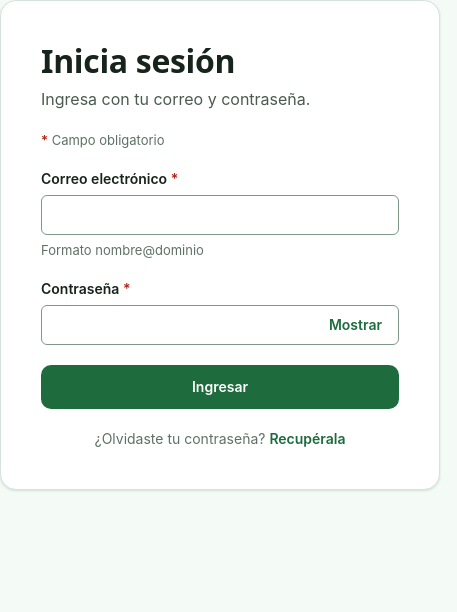
Test: LoginForm › da el mismo mensaje genérico si la cuenta está deshabilitada
Type "diana.rincon@anuc.test" into the field labelled "Correo electrónico *" at [220, 215], box x1=41 y1=195 x2=399 y2=235
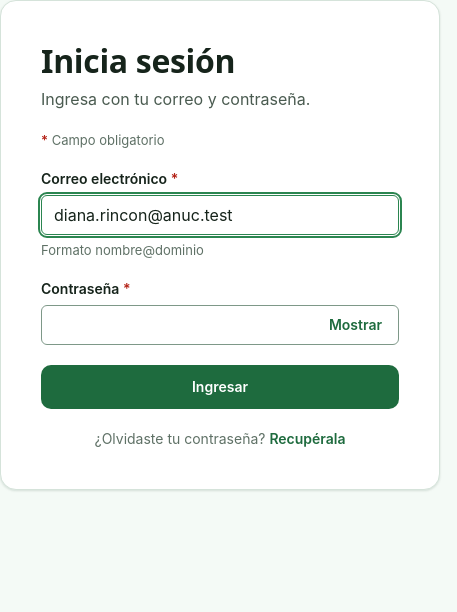
Type "demo1234" into the password field labelled "Contraseña *" at [220, 325], box x1=41 y1=305 x2=399 y2=345
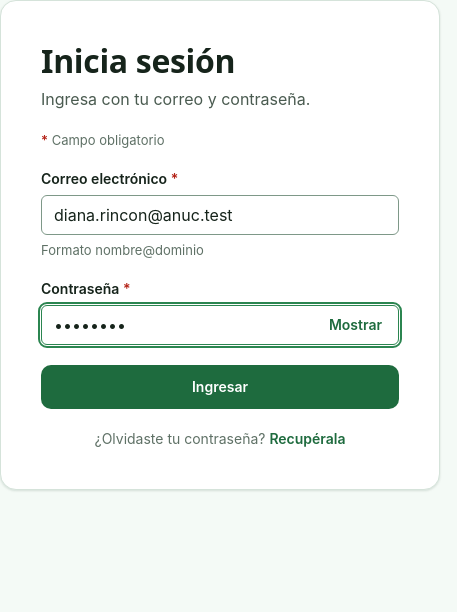
Click the button "Ingresar" at [220, 387], box x1=41 y1=365 x2=399 y2=409
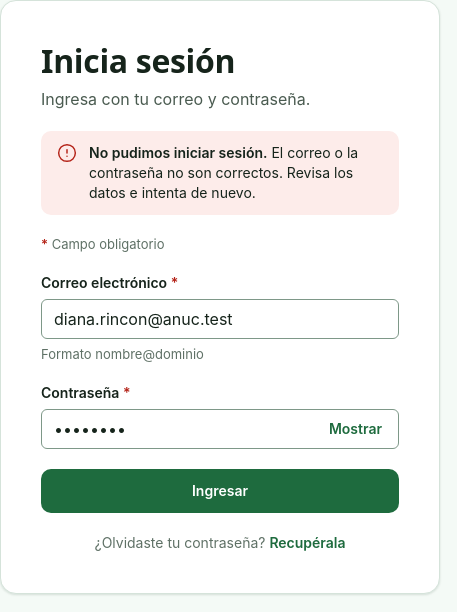
Expected: the message shows "El correo o la contraseña no son correctos", x1=89 y1=144 x2=358 y2=201
